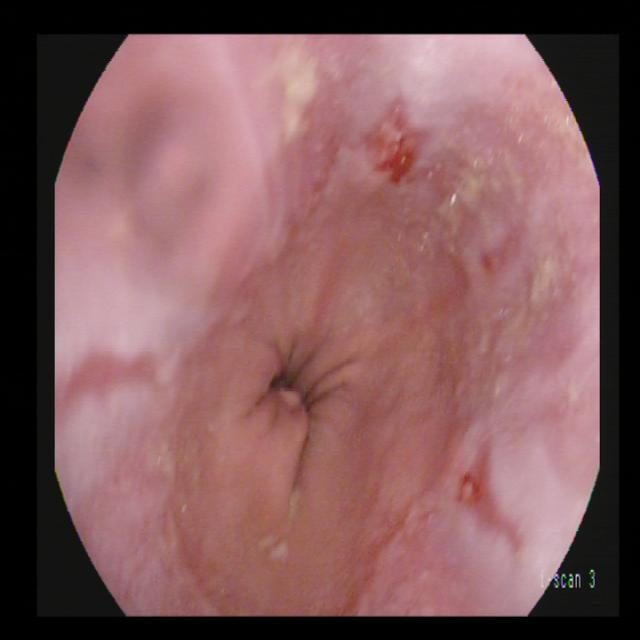esophagitis: (152, 36, 577, 623)
